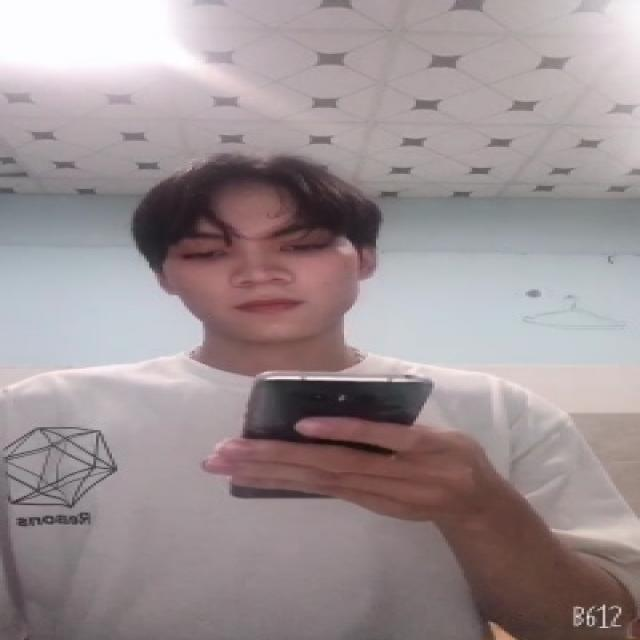Phone: (228, 369, 438, 502)
